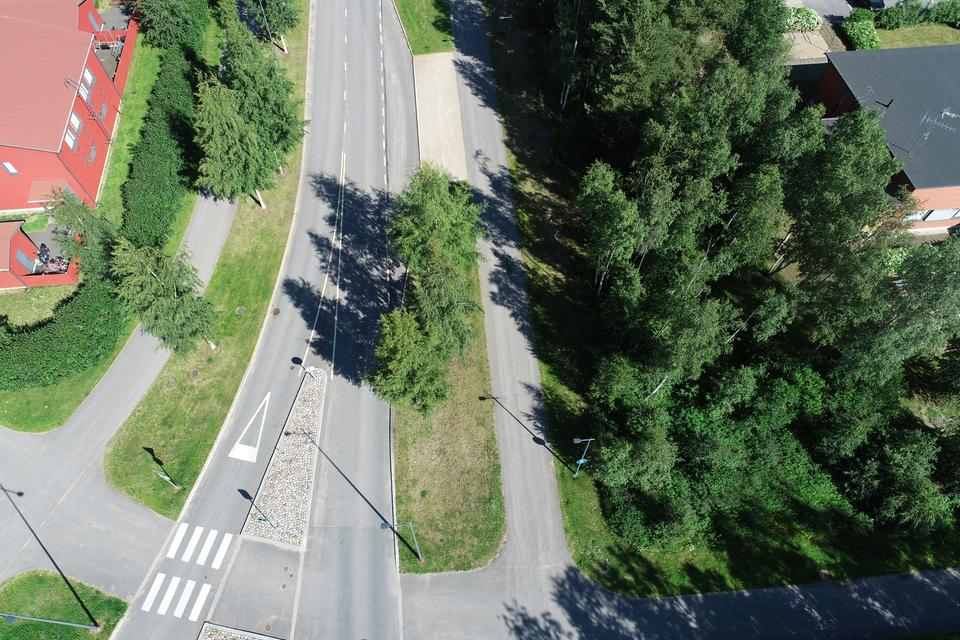intersection: (57, 466, 599, 640)
